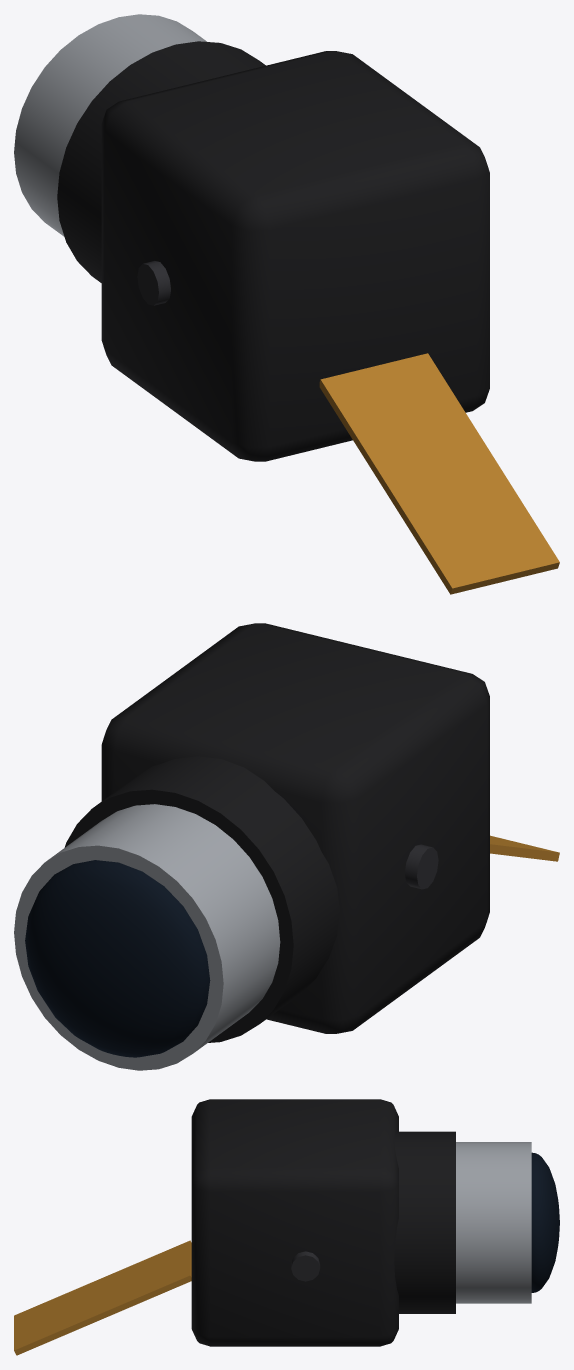
Rendered from cam_digital.glb.
3 views of the same model, one above another, from view 1: azimuth 30°, elevation 25°; view 2: azimuth 150°, elevation 25°; view 3: azimuth 270°, elevation 25° (orthographic). The views are drawn at different scales.
Visible parts, largest first — view 1: cam_digital_M_CamBody, cam_digital_M_Ribbon, cam_digital_M_Alu, cam_digital_M_Bolt; view 2: cam_digital_M_CamBody, cam_digital_M_Glass, cam_digital_M_Alu, cam_digital_M_Bolt, cam_digital_M_Ribbon; view 3: cam_digital_M_CamBody, cam_digital_M_Alu, cam_digital_M_Ribbon, cam_digital_M_Glass, cam_digital_M_Bolt.
Part boxes in pixels (<box>): cam_digital_M_CamBody: <box>57,41,489,461</box>; cam_digital_M_Ribbon: <box>319,353,559,594</box>; cam_digital_M_Alu: <box>14,14,206,236</box>; cam_digital_M_Bolt: <box>137,261,170,305</box>; cam_digital_M_CamBody: <box>64,623,489,1042</box>; cam_digital_M_Glass: <box>25,860,210,1057</box>; cam_digital_M_Alu: <box>14,804,280,1070</box>; cam_digital_M_Bolt: <box>405,844,438,889</box>; cam_digital_M_Ribbon: <box>490,835,559,861</box>; cam_digital_M_CamBody: <box>191,1099,455,1346</box>; cam_digital_M_Alu: <box>456,1142,531,1303</box>; cam_digital_M_Ribbon: <box>14,1240,191,1355</box>; cam_digital_M_Glass: <box>531,1152,559,1292</box>; cam_digital_M_Bolt: <box>291,1251,320,1281</box>.
Size of the model in its own units: 0.0208 by 0.0218 by 0.0526.
